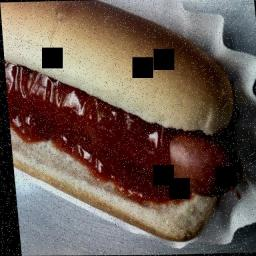hotdog: (166, 130, 248, 200)
